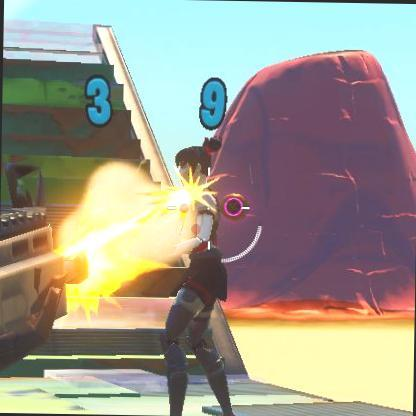person: (158, 241, 252, 416), (162, 334, 192, 414)
